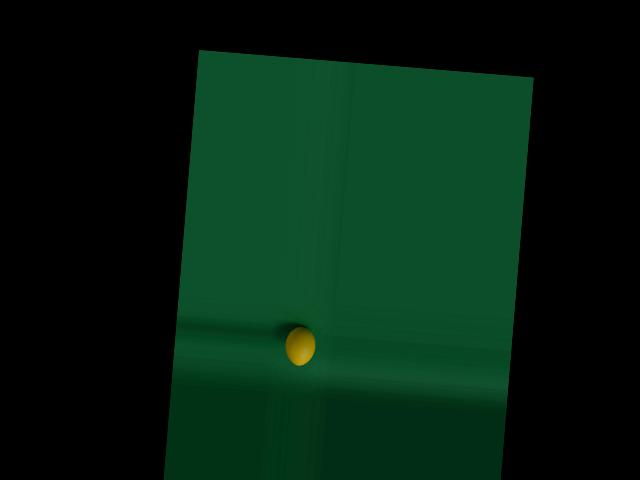egg: (285, 325, 317, 367)
